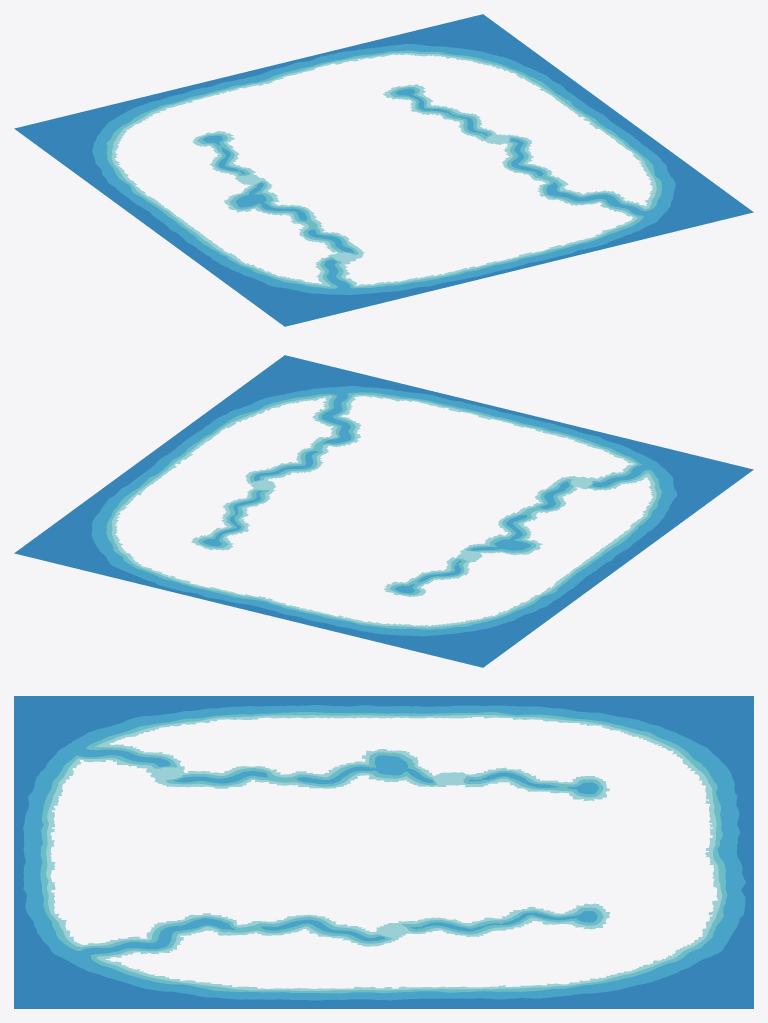
File: Map-4-Water.fbx
3 views of the same model, one above another, from view 1: azimuth 30°, elevation 25°; view 2: azimuth 150°, elevation 25°; view 3: azimuth 270°, elevation 25° (orthographic). The views are drawn at different scales.
Visible parts, largest first — view 1: Map-4-Water; view 2: Map-4-Water; view 3: Map-4-Water.
Boxes of the visible parts, <box> form: Map-4-Water: <box>14,14,753,326</box>; Map-4-Water: <box>14,355,753,667</box>; Map-4-Water: <box>14,696,753,1008</box>.
Bounding box in the file's own units: 200 × 0 × 200.
